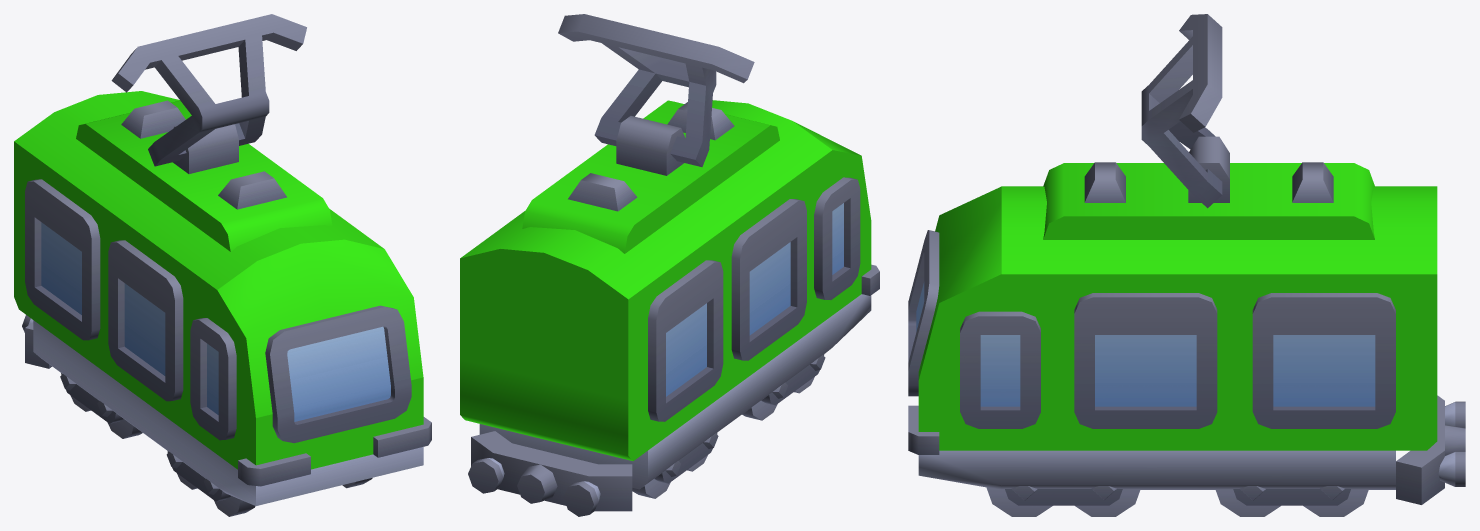
The model's file is train-tram-modern.glb.
The picture shows the model from 3 angles, left to right: view 1: azimuth 30°, elevation 25°; view 2: azimuth 150°, elevation 25°; view 3: azimuth 270°, elevation 25°; orthographic projection. The views are drawn at different scales.
Visible parts, largest first — view 1: body.001, train-tram-modern, collector, wheels-front, wheels-back; view 2: body.001, train-tram-modern, collector, wheels-back, wheels-front; view 3: body.001, train-tram-modern, collector, wheels-front, wheels-back.
Boxes of the visible parts, bbox=[...] form: body.001: bbox=[14, 91, 423, 469]; train-tram-modern: bbox=[22, 100, 431, 505]; collector: bbox=[111, 14, 306, 166]; wheels-front: bbox=[166, 451, 372, 516]; wheels-back: bbox=[60, 373, 142, 438]; body.001: bbox=[460, 100, 871, 460]; train-tram-modern: bbox=[468, 102, 879, 516]; collector: bbox=[558, 14, 754, 166]; wheels-back: bbox=[632, 433, 718, 498]; wheels-front: bbox=[742, 354, 825, 420]; body.001: bbox=[918, 163, 1437, 450]; train-tram-modern: bbox=[908, 136, 1465, 504]; collector: bbox=[1141, 14, 1222, 208]; wheels-front: bbox=[986, 486, 1140, 516]; wheels-back: bbox=[1215, 486, 1368, 516].
Bounding box in the file's own units: 1.13 × 2.3 × 2.69.
2 materials, 1 textured.
